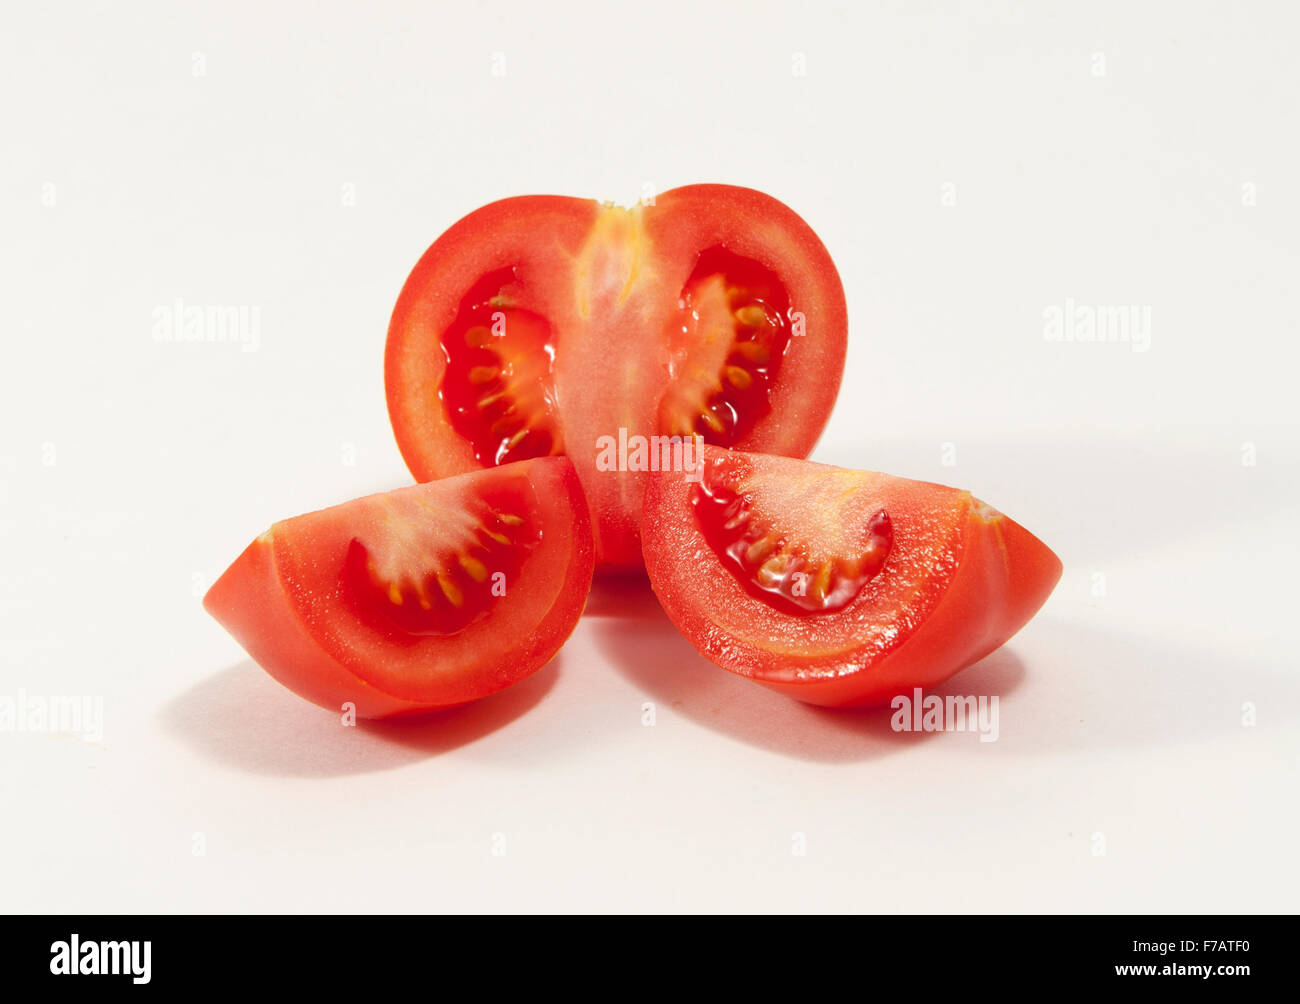tomato: (205, 185, 1063, 719)
